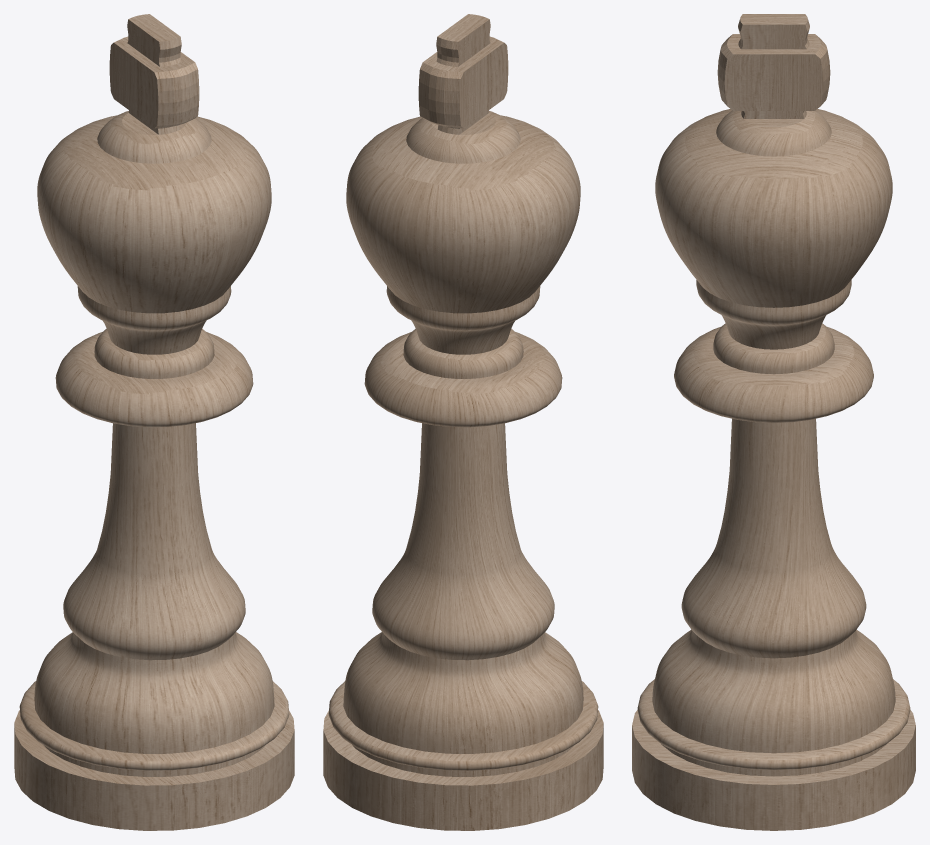
File: white-king.glb
3 views of the same model, side by side, from view 1: azimuth 30°, elevation 25°; view 2: azimuth 150°, elevation 25°; view 3: azimuth 270°, elevation 25° (orthographic).
Parts seen in each view (by area): view 1: ScacchiBianchi_Re.001_white_0; view 2: ScacchiBianchi_Re.001_white_0; view 3: ScacchiBianchi_Re.001_white_0.
Part boxes in pixels (x1,y1,x2,y2): ScacchiBianchi_Re.001_white_0: (14,14,294,830); ScacchiBianchi_Re.001_white_0: (323,14,603,830); ScacchiBianchi_Re.001_white_0: (632,14,915,830).
Bounding box in the file's own units: 3.5 × 10.23 × 3.5.
Materials: 1 (1 with a texture image).
